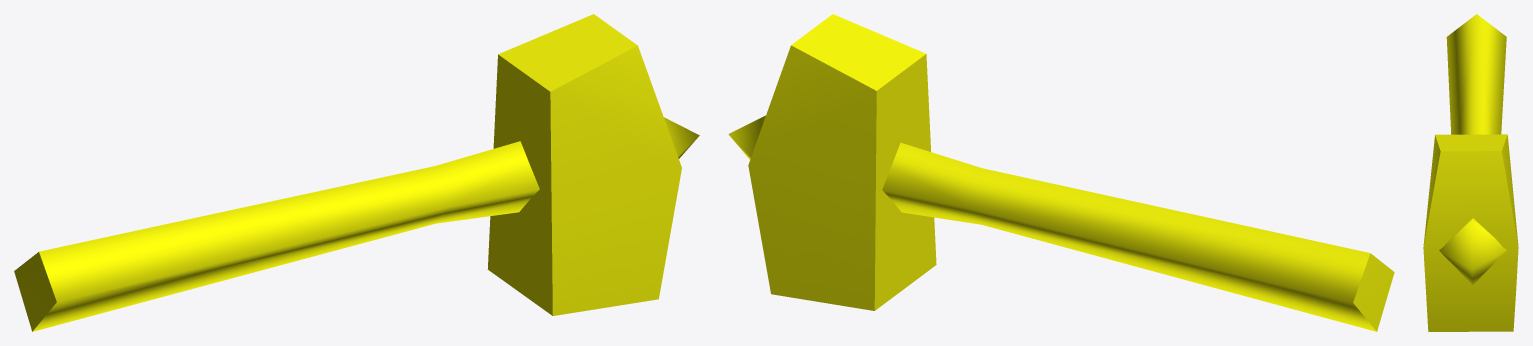
Rendered from BRB_weapon_hammer.glb.
3 views of the same model, side by side, from view 1: azimuth 30°, elevation 25°; view 2: azimuth 150°, elevation 25°; view 3: azimuth 270°, elevation 25° (orthographic). The views are drawn at different scales.
Parts seen in each view (by area): view 1: BRB_weapon_hammer_B; view 2: BRB_weapon_hammer_B; view 3: BRB_weapon_hammer_B.
Boxes of the visible parts, x1=… form: BRB_weapon_hammer_B: x1=14, y1=14, x2=699, y2=331; BRB_weapon_hammer_B: x1=728, y1=14, x2=1394, y2=331; BRB_weapon_hammer_B: x1=1423, y1=14, x2=1518, y2=331.
Size of the model in its own units: 4.8 by 1.73 by 0.8456.
1 material, 1 textured.
